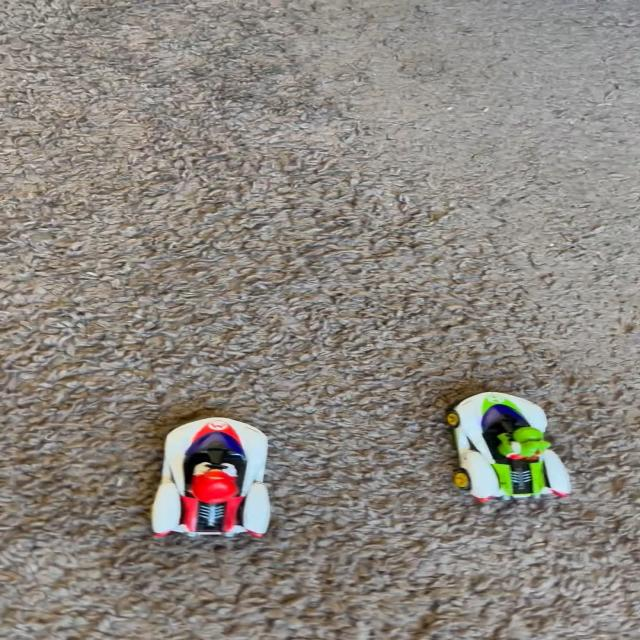mario: (122, 404, 290, 564)
yoshi: (430, 378, 591, 521)
